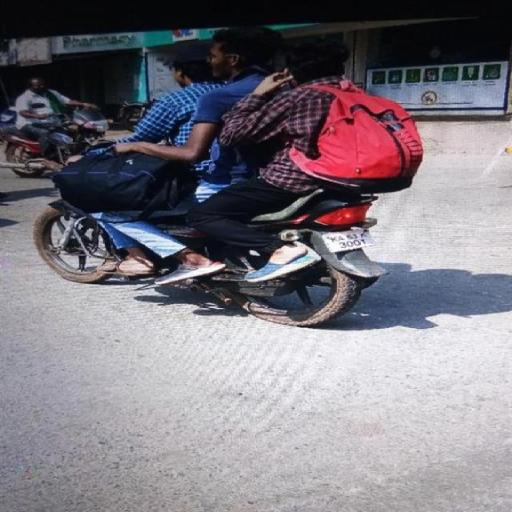tripple riding: (107, 20, 427, 205)
